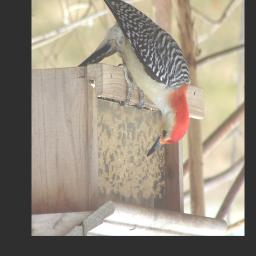Woodpecker: (85, 0, 195, 158)
